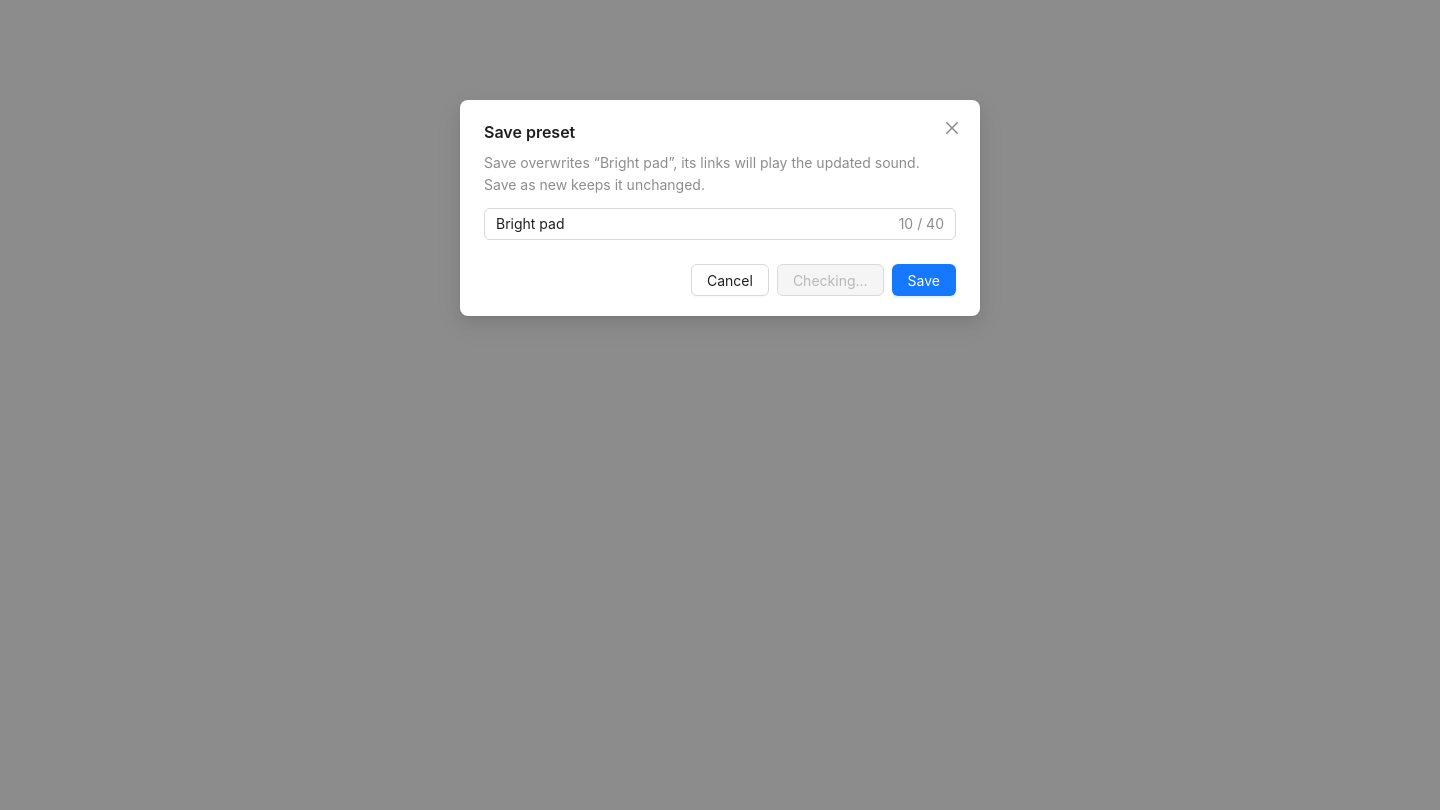
SaveDialog › preset saved from this browser › overwrites the current preset with its edit token
Expected: the text "Save overwrites “Bright pad”" is shown, [484,154,920,193]
Clear the field with placeholder "Preset name" at x=695, y=224, box [496,213,895,235]
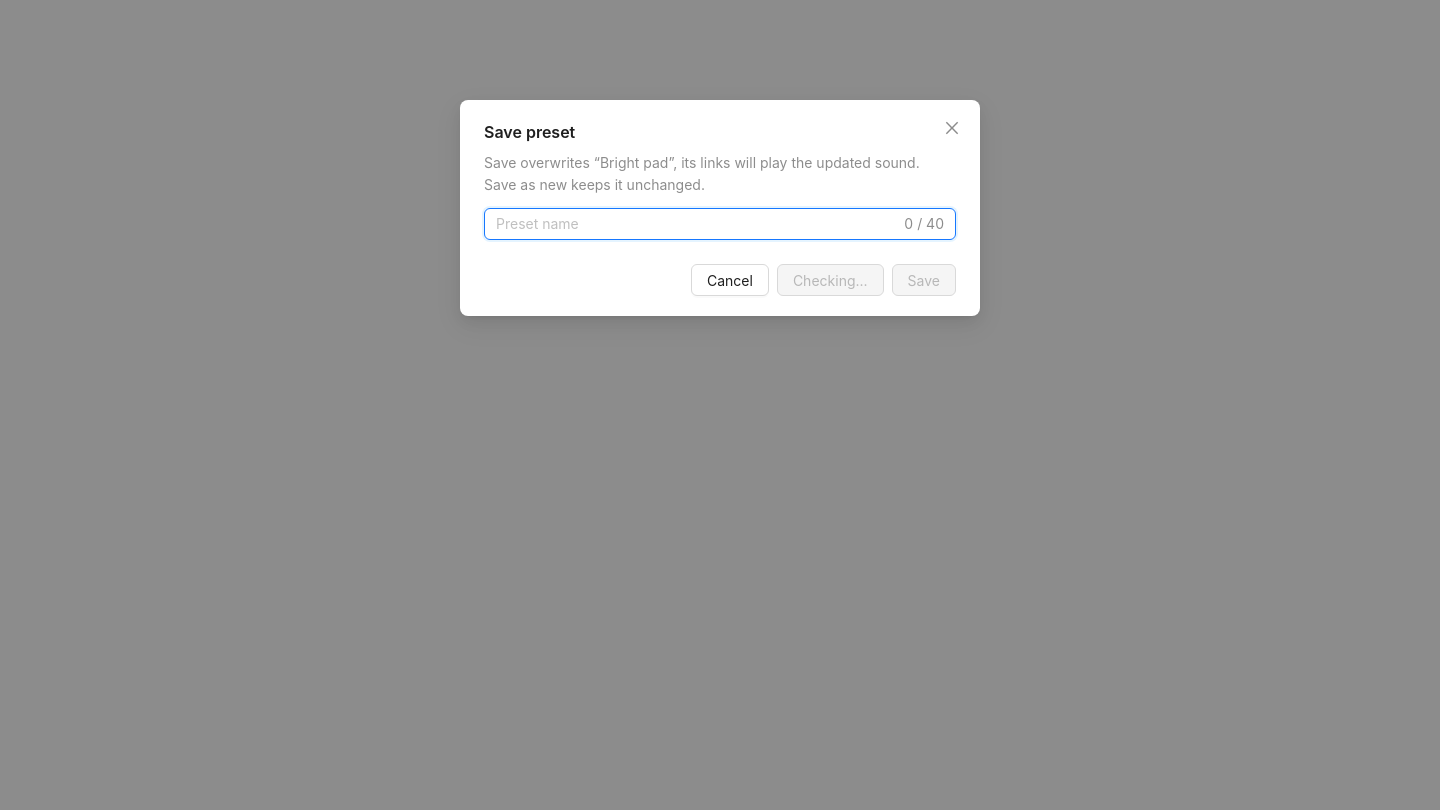
Type "Brighter pad" into the field with placeholder "Preset name" at x=698, y=224, box [496,213,900,235]
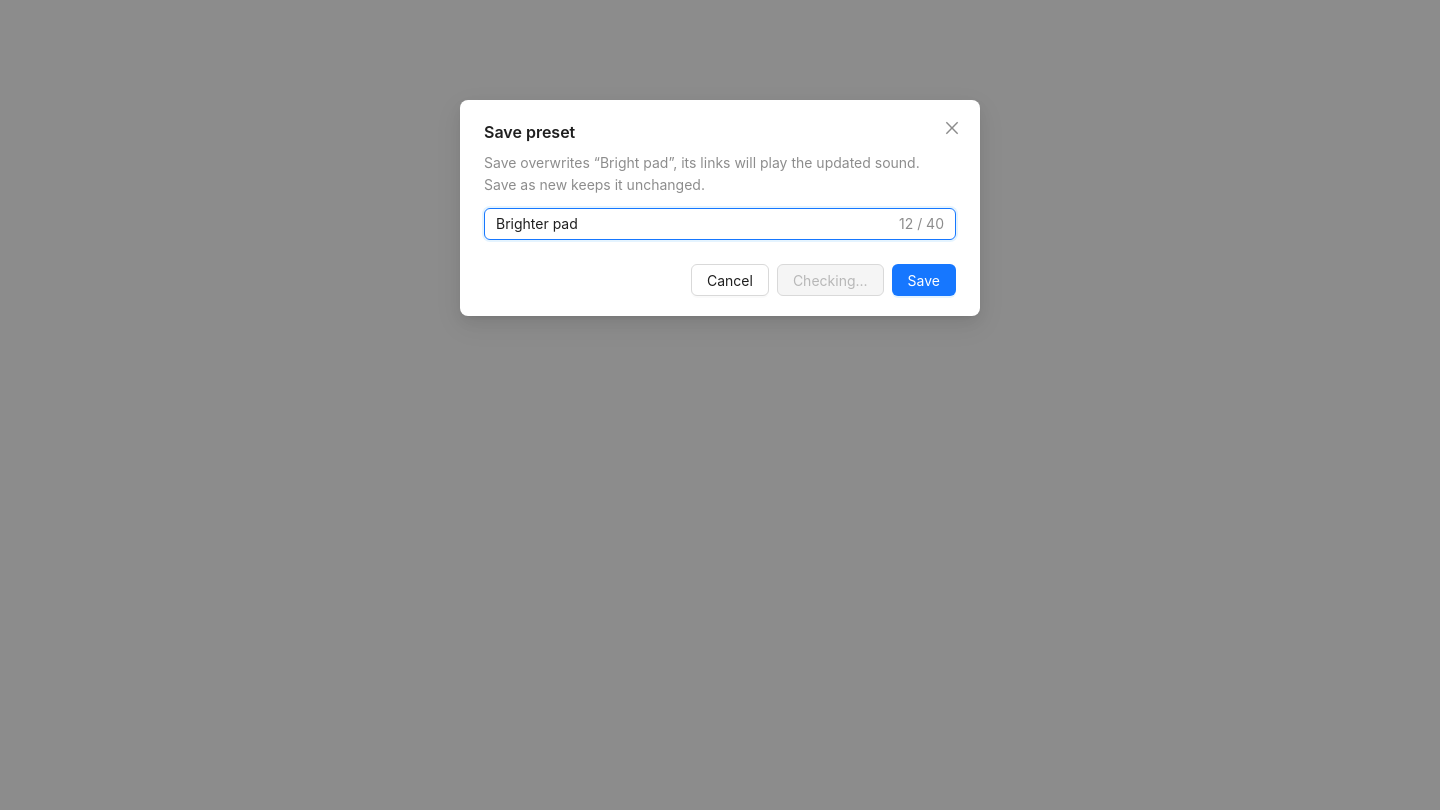
Click the button "Save" at x=924, y=280, box [892,264,956,296]
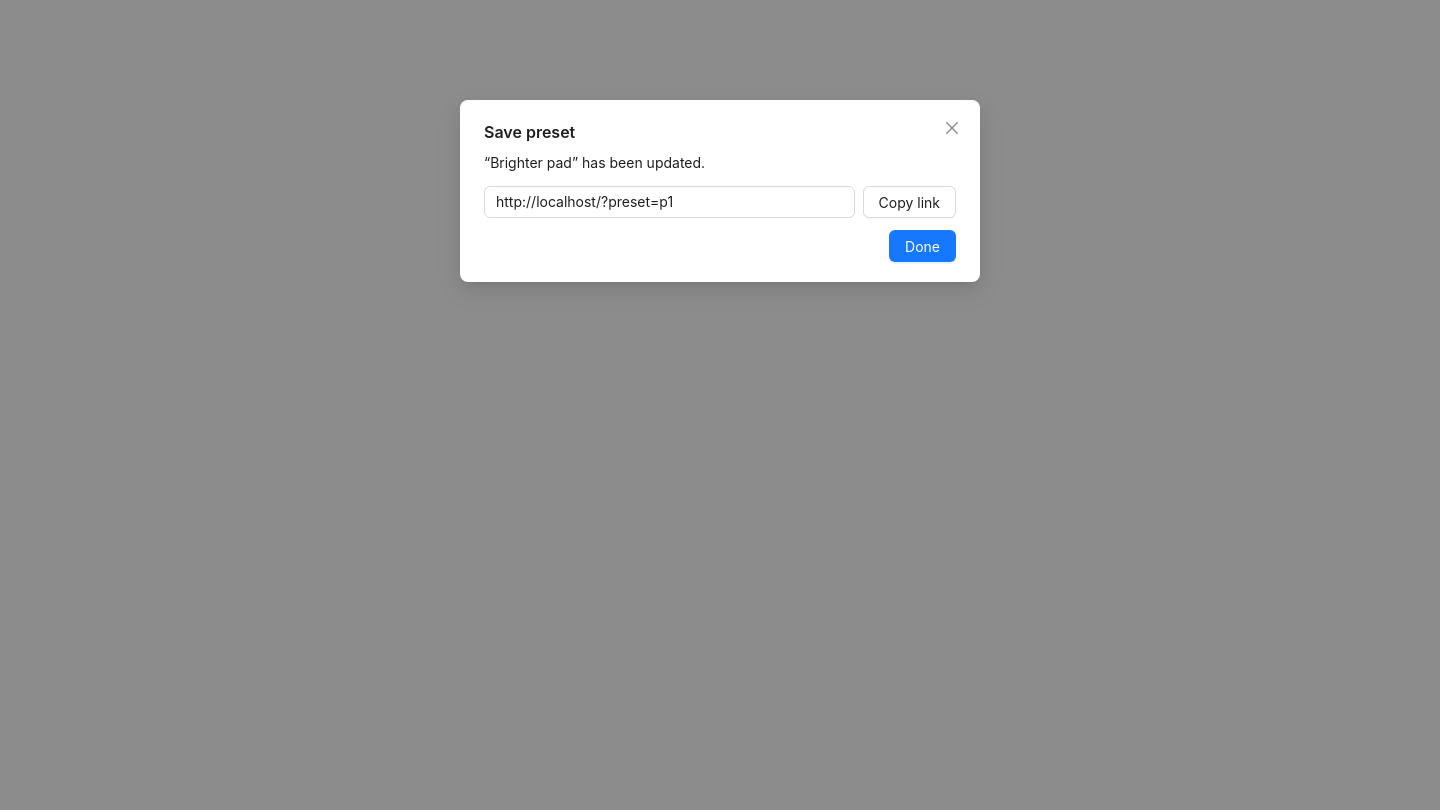
Now the text "“Brighter pad” has been updated." is shown, box [484,154,705,171]
